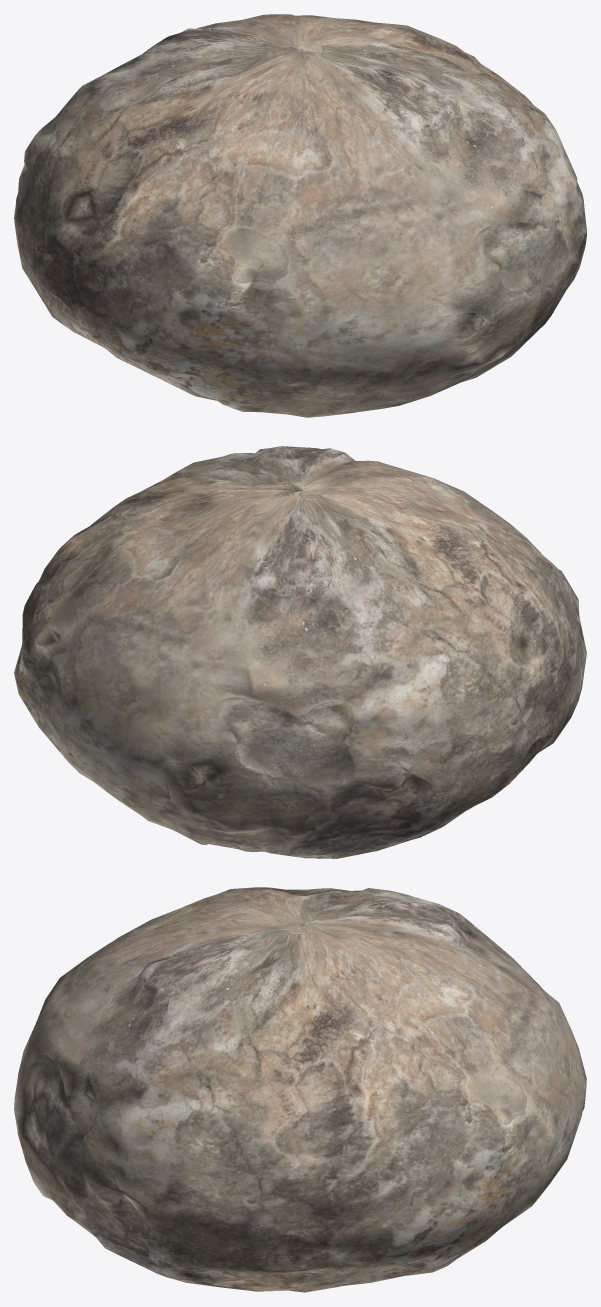
File: pebble-0-near.glb
3 renders of one model, top to bottom at view 1: azimuth 30°, elevation 25°; view 2: azimuth 150°, elevation 25°; view 3: azimuth 270°, elevation 25°, orthographic.
Visible parts, largest first — view 1: sphere_gltf; view 2: sphere_gltf; view 3: sphere_gltf.
Part boxes in pixels (x1,y1,x2,y2): sphere_gltf: (14, 14, 586, 417); sphere_gltf: (14, 446, 586, 858); sphere_gltf: (14, 887, 586, 1292).
Size of the model in its own units: 0.9961 by 0.6456 by 0.9987.
Materials: 1 (1 with a texture image).
